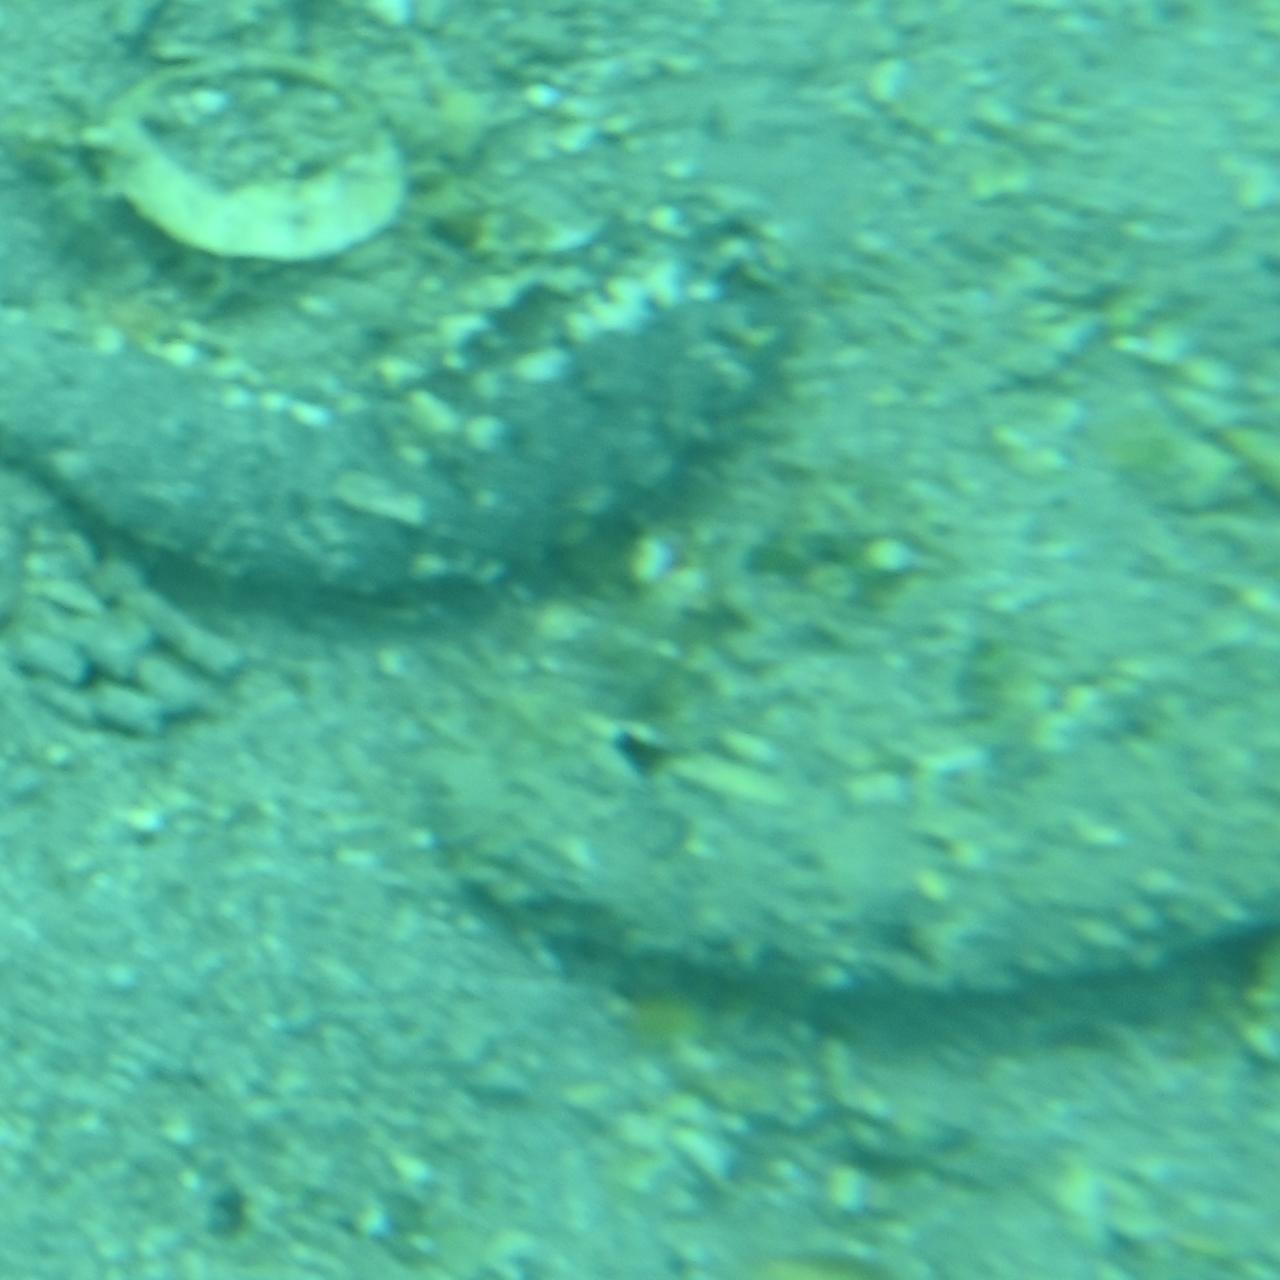Holothuria tubulosa: (409, 644, 1280, 1051), (0, 218, 819, 648)
